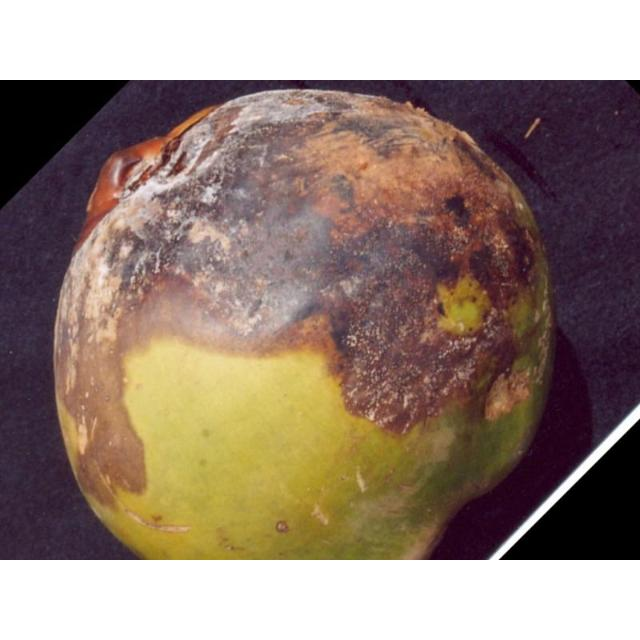damaged: (54, 90, 553, 559)
